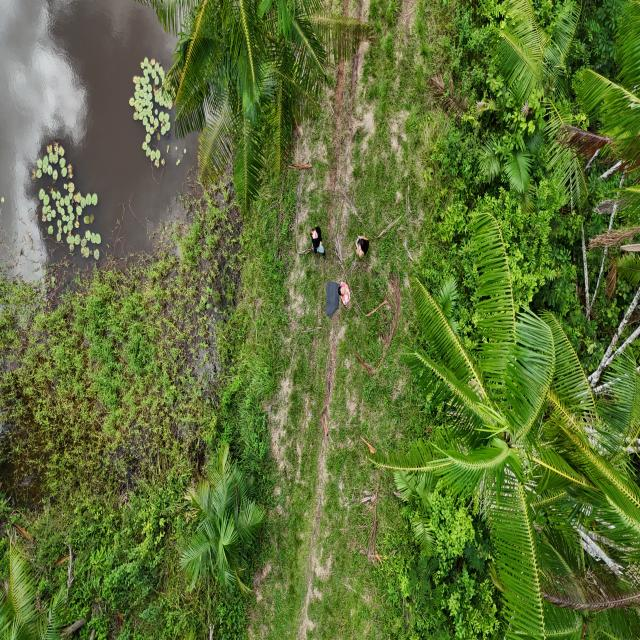vegetation: (361, 208, 639, 638), (132, 0, 377, 216)
